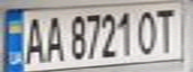1: (115, 8, 136, 56)
2: (100, 9, 118, 60)
7: (84, 10, 103, 60)
8: (66, 11, 87, 61)
A: (21, 12, 48, 64), (42, 11, 66, 63)
O: (136, 7, 160, 55)
T: (151, 4, 181, 55)
